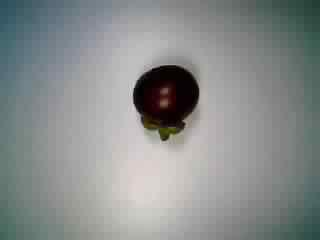mangosteen: (124, 59, 202, 142)
